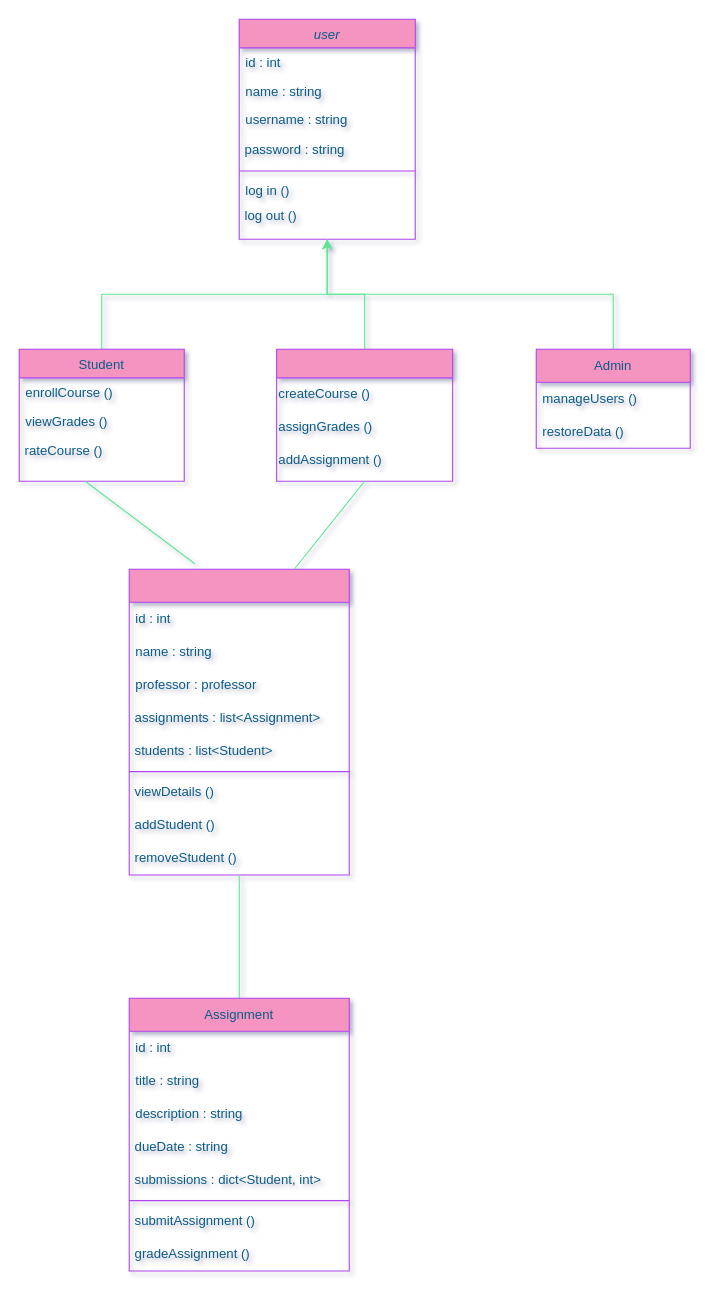
The diagram is 716 pixels wide and 1297 high, and some of its shapes have lost their labels. Each missing label, with the box of its shape:
Course: (128, 568, 349, 875)
Professor: (276, 348, 453, 481)
